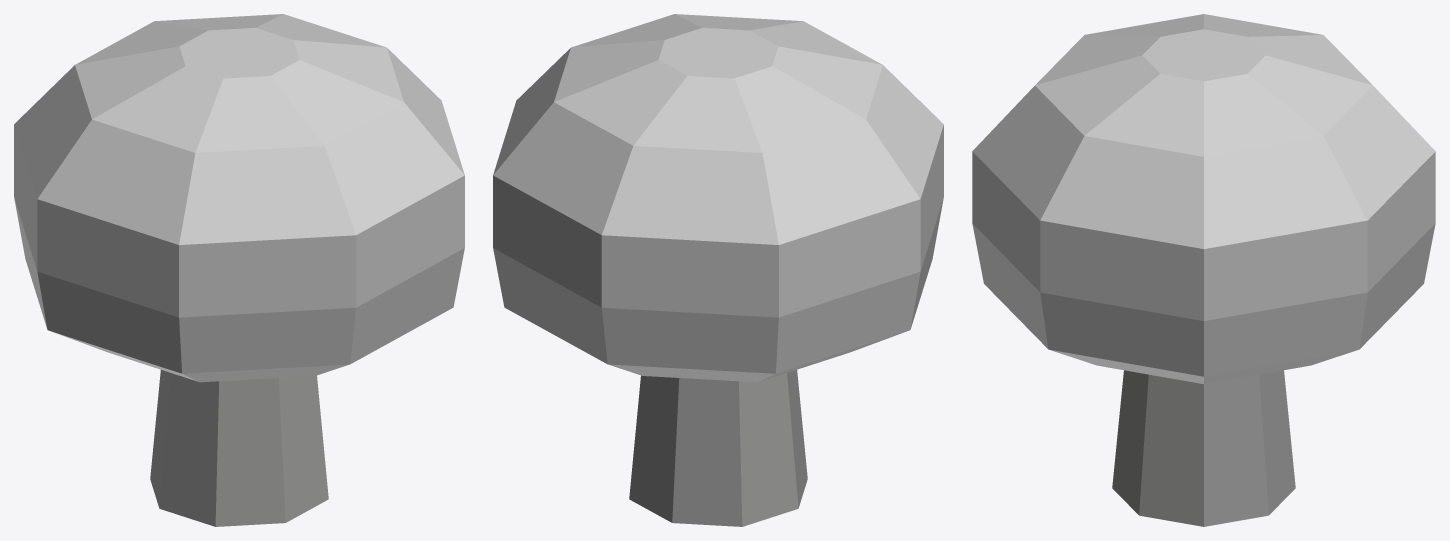
The model's file is mushroom04.gltf.
3 views of the same model, side by side, from view 1: azimuth 30°, elevation 25°; view 2: azimuth 150°, elevation 25°; view 3: azimuth 270°, elevation 25° (orthographic).
Parts seen in each view (by area): view 1: Cylinder; view 2: Cylinder; view 3: Cylinder.
Part boxes in pixels (bbox=[...]): Cylinder: bbox=[14, 14, 464, 526]; Cylinder: bbox=[493, 14, 943, 526]; Cylinder: bbox=[972, 14, 1435, 526].
Size of the model in its own units: 0.0346 by 0.0356 by 0.0346.
Materials: 1 (1 with a texture image).
